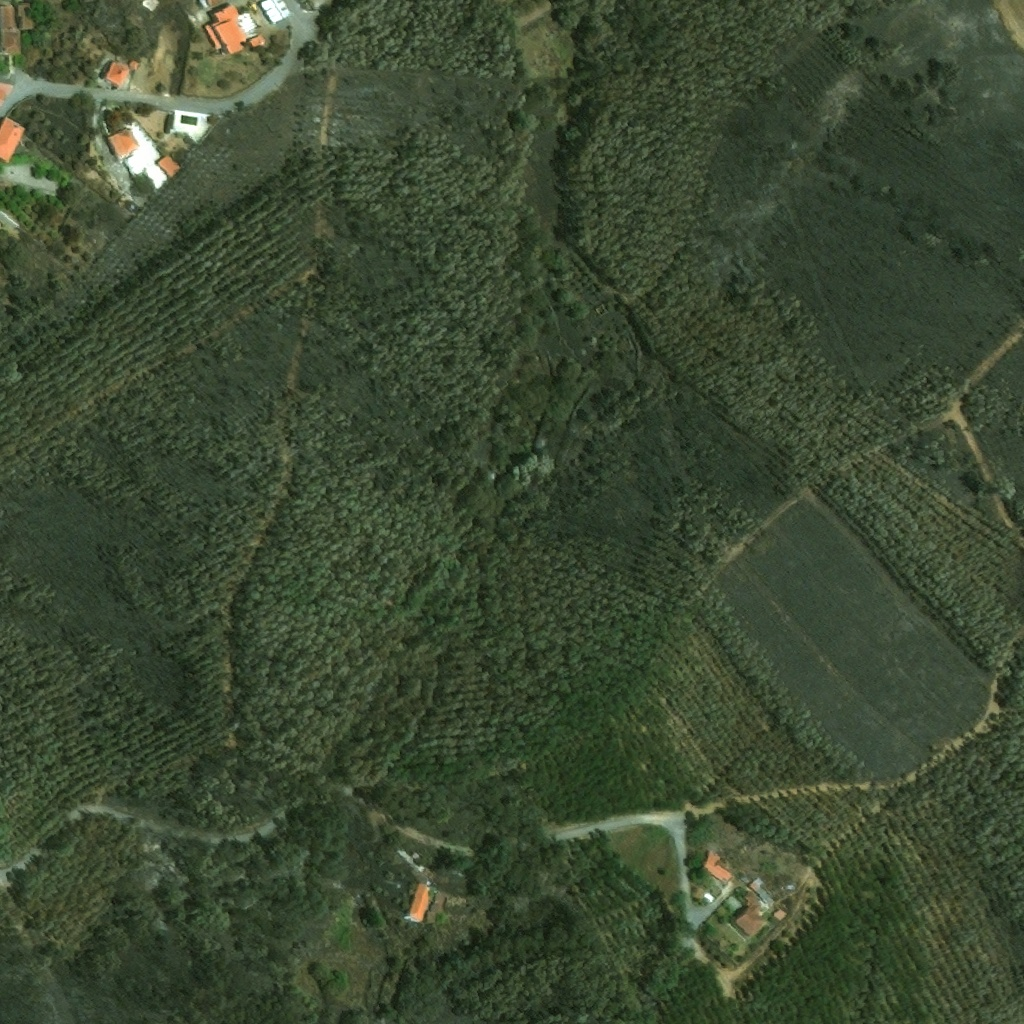0 no-damage: (205, 3, 248, 57), (732, 890, 769, 939), (166, 109, 212, 147), (404, 882, 437, 926), (700, 849, 737, 886), (0, 115, 27, 163), (107, 127, 140, 159), (0, 6, 21, 54), (102, 58, 131, 87), (259, 0, 292, 24), (426, 893, 448, 925), (748, 877, 773, 905), (155, 154, 181, 180), (0, 72, 16, 110), (17, 2, 35, 29), (772, 907, 788, 922), (248, 35, 264, 48), (129, 60, 140, 71)
2 major-damage: (395, 846, 415, 864), (411, 850, 421, 861)
4 un-classified: (199, 0, 226, 7)
